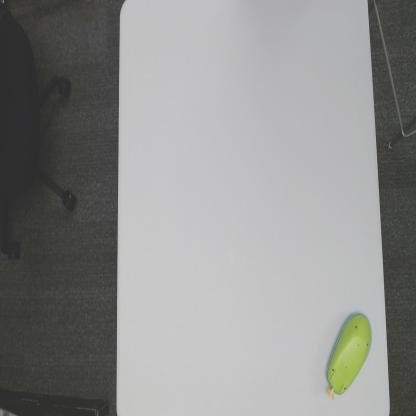Boat: (324, 308, 374, 404)
